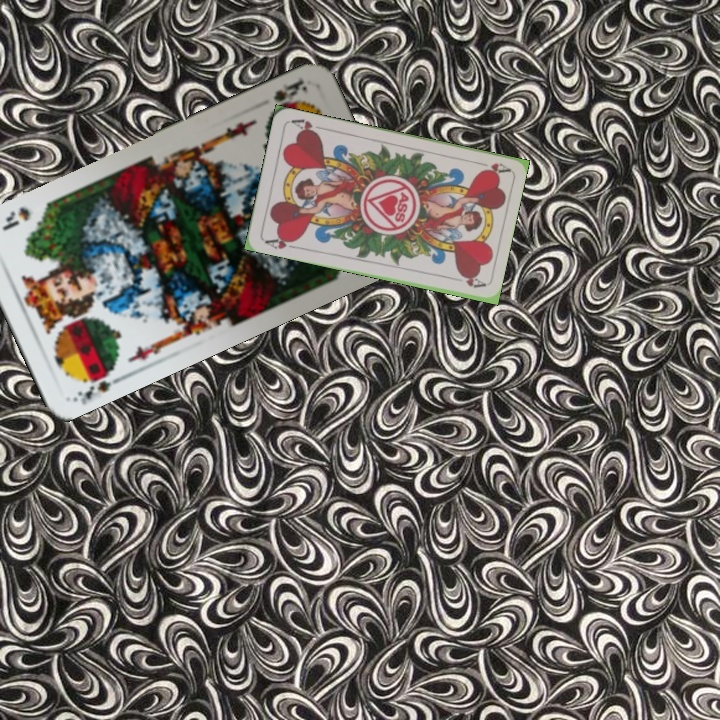HA: (261, 232, 301, 252), (471, 158, 511, 177)
SK: (69, 361, 125, 406), (265, 73, 311, 116)
